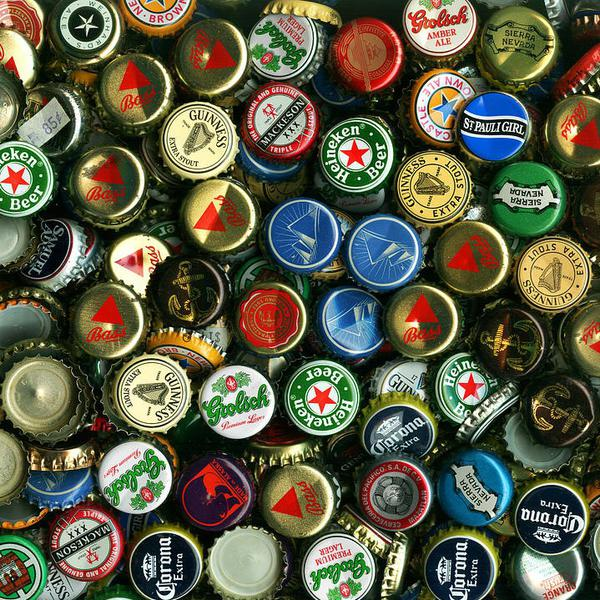corona: (419, 529, 502, 600), (514, 480, 588, 559), (362, 396, 437, 467), (129, 529, 201, 600)
heineken: (316, 112, 396, 197), (283, 359, 358, 437), (435, 350, 503, 422), (1, 137, 56, 220)
